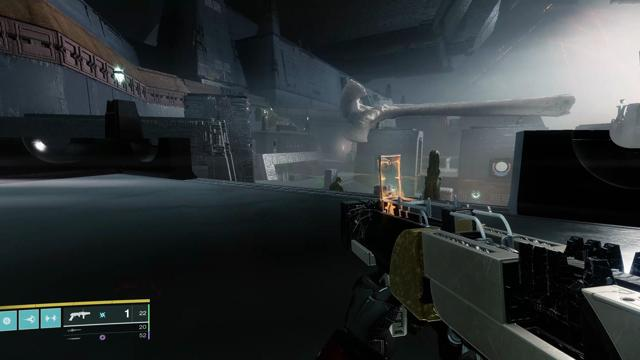traveler: (492, 161, 511, 176)
